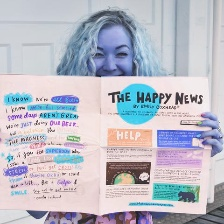book: (0, 71, 212, 217)
